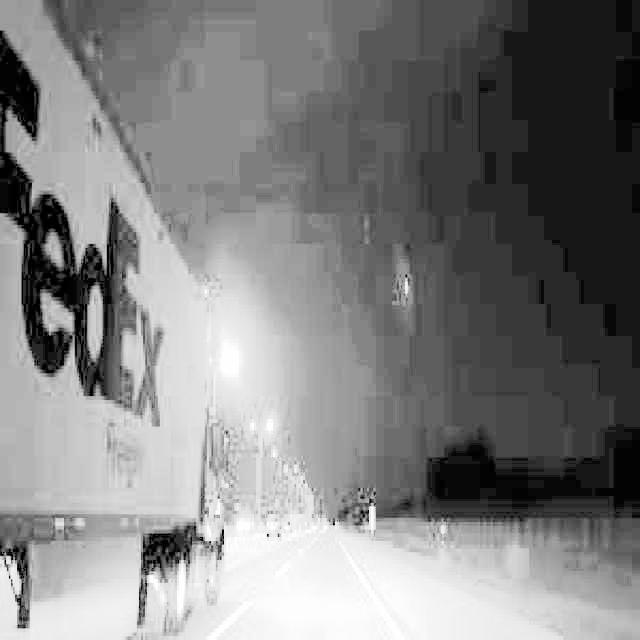Truck: (0, 0, 228, 636)
